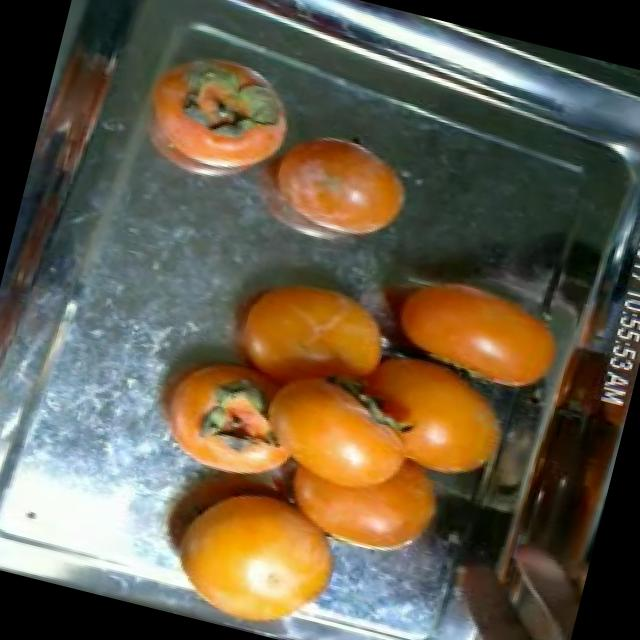Fruit: (131, 452, 372, 640), (377, 246, 586, 398), (233, 108, 427, 262)
